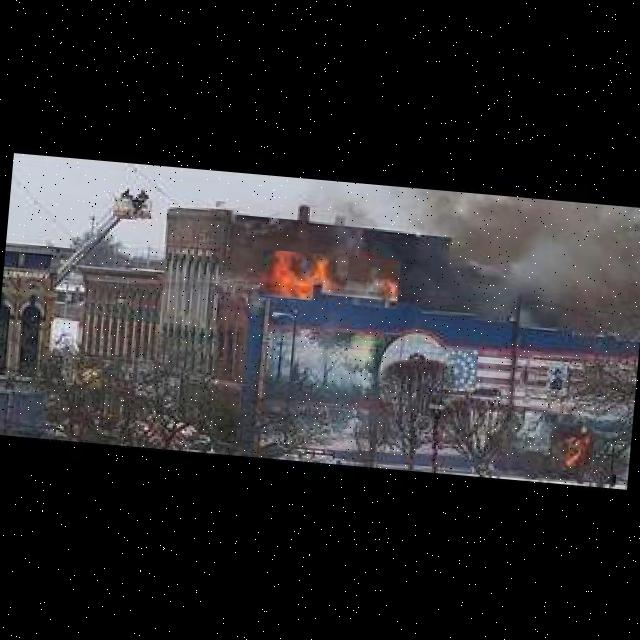fire: (258, 248, 401, 308), (554, 412, 596, 469)
